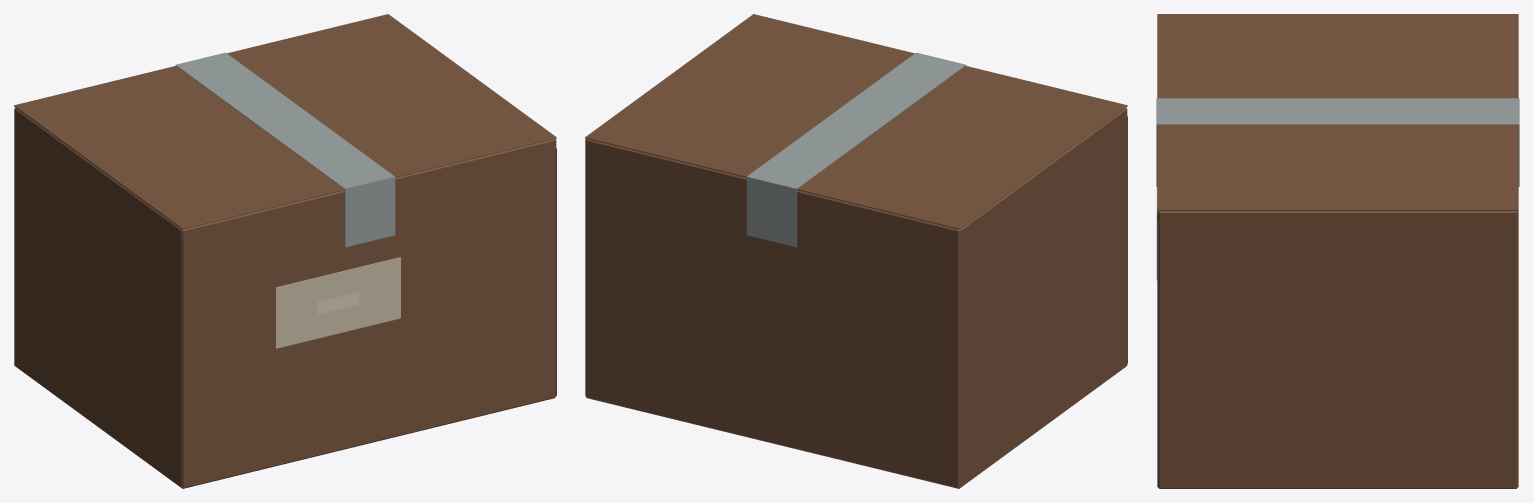
Rendered from cardboard-box-607e25aecb59.glb.
The picture shows the model from 3 angles, left to right: view 1: azimuth 30°, elevation 25°; view 2: azimuth 150°, elevation 25°; view 3: azimuth 270°, elevation 25°; orthographic projection. The views are drawn at different scales.
Parts seen in each view (by area): view 1: wood-walnut, glass-clear, paper, fabric; view 2: wood-walnut, glass-clear; view 3: wood-walnut, glass-clear, fabric.
Boxes of the visible parts, <box> form: wood-walnut: <box>14,14,556,488</box>; glass-clear: <box>175,52,395,247</box>; paper: <box>275,257,400,348</box>; fabric: <box>182,148,556,486</box>; wood-walnut: <box>585,14,1127,488</box>; glass-clear: <box>746,52,966,247</box>; wood-walnut: <box>1157,14,1518,488</box>; glass-clear: <box>1156,98,1519,186</box>; fabric: <box>1157,221,1158,486</box>.
Size of the model in its own units: 0.45 by 0.3 by 0.3523.
